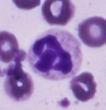N: (28, 30, 82, 80)
